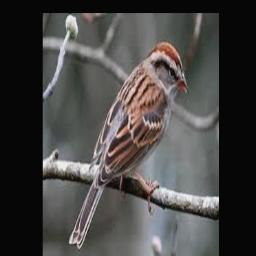Sparrow: (69, 41, 189, 250)
